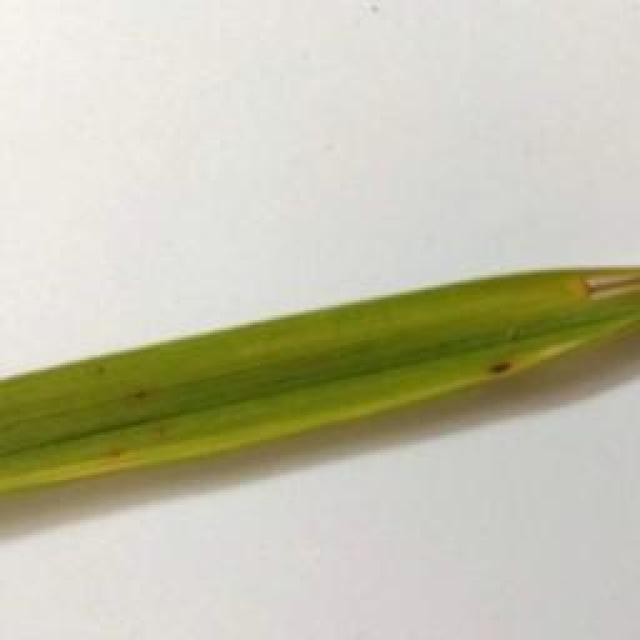Bacterial_Blight: (549, 271, 640, 302)
Brown_Spot: (479, 345, 539, 389), (103, 380, 175, 404), (136, 426, 183, 446), (103, 440, 145, 461), (92, 362, 121, 390)
